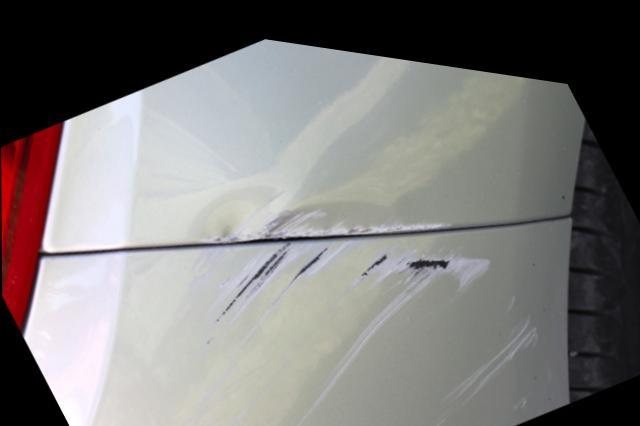dent: (203, 190, 349, 238)
scratch: (114, 217, 548, 426), (349, 206, 456, 224)
